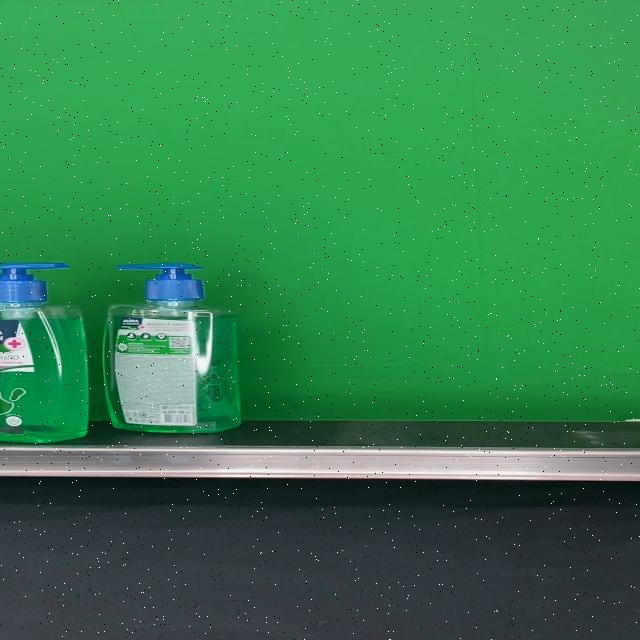Bottle: (102, 262, 242, 432)
Cap: (116, 262, 206, 302)
